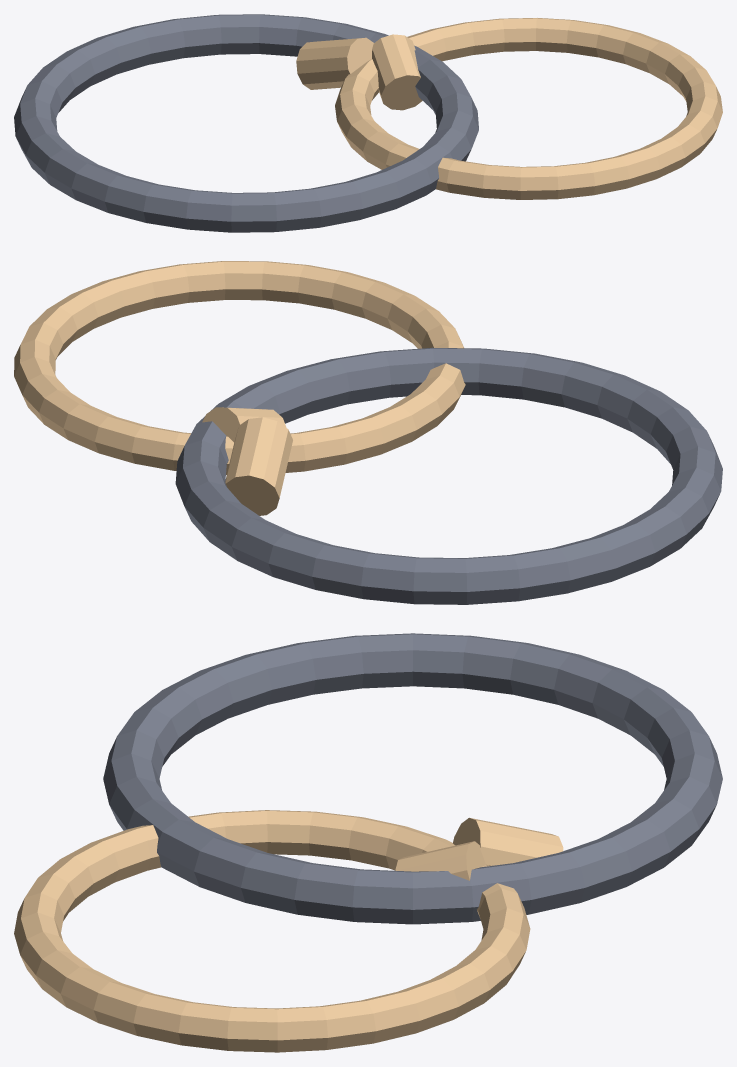
The model's file is item_75_rubber_band.glb.
3 renders of one model, top to bottom at view 1: azimuth 30°, elevation 25°; view 2: azimuth 150°, elevation 25°; view 3: azimuth 270°, elevation 25°, orthographic. The views are drawn at different scales.
Parts seen in each view (by area): view 1: I75_Band1, I75_Band2, I75_Knot, I75_Knot2; view 2: I75_Band1, I75_Band2, I75_Knot, I75_Knot2; view 3: I75_Band1, I75_Band2, I75_Knot, I75_Knot2.
Boxes of the visible parts, x1,y1,x2,y2 form: I75_Band1: (14,14,478,232); I75_Band2: (335,18,722,199); I75_Knot: (296,37,373,89); I75_Knot2: (372,34,422,110); I75_Band1: (175,347,722,604); I75_Band2: (14,261,465,474); I75_Knot: (225,417,292,515); I75_Knot2: (202,407,286,442); I75_Band1: (103,633,722,924); I75_Band2: (14,810,530,1052); I75_Knot: (453,817,563,865); I75_Knot2: (395,841,485,880).
Size of the model in its own units: 0.1176 by 0.012 by 0.0906.
